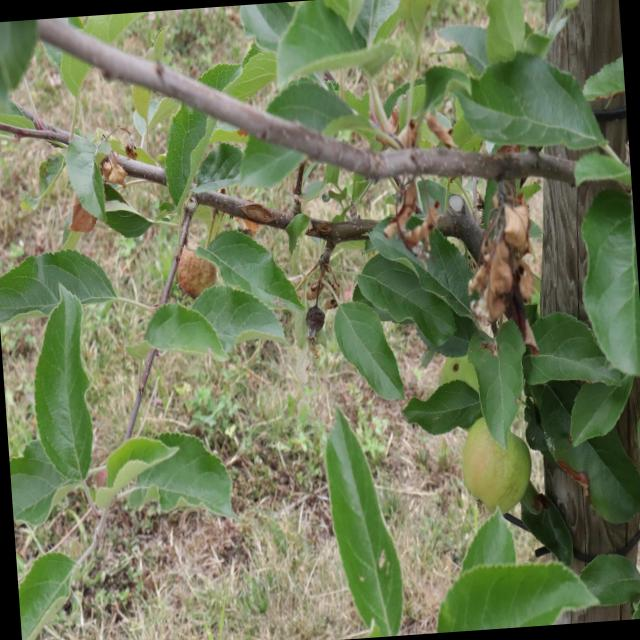-FireBlight-: (476, 174, 547, 354), (382, 144, 436, 245), (370, 106, 458, 158), (176, 240, 224, 289), (98, 152, 132, 195), (66, 200, 102, 240)
